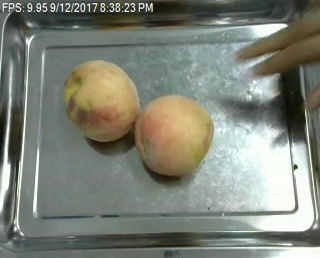Peach: (63, 57, 139, 143), (135, 94, 213, 177)
